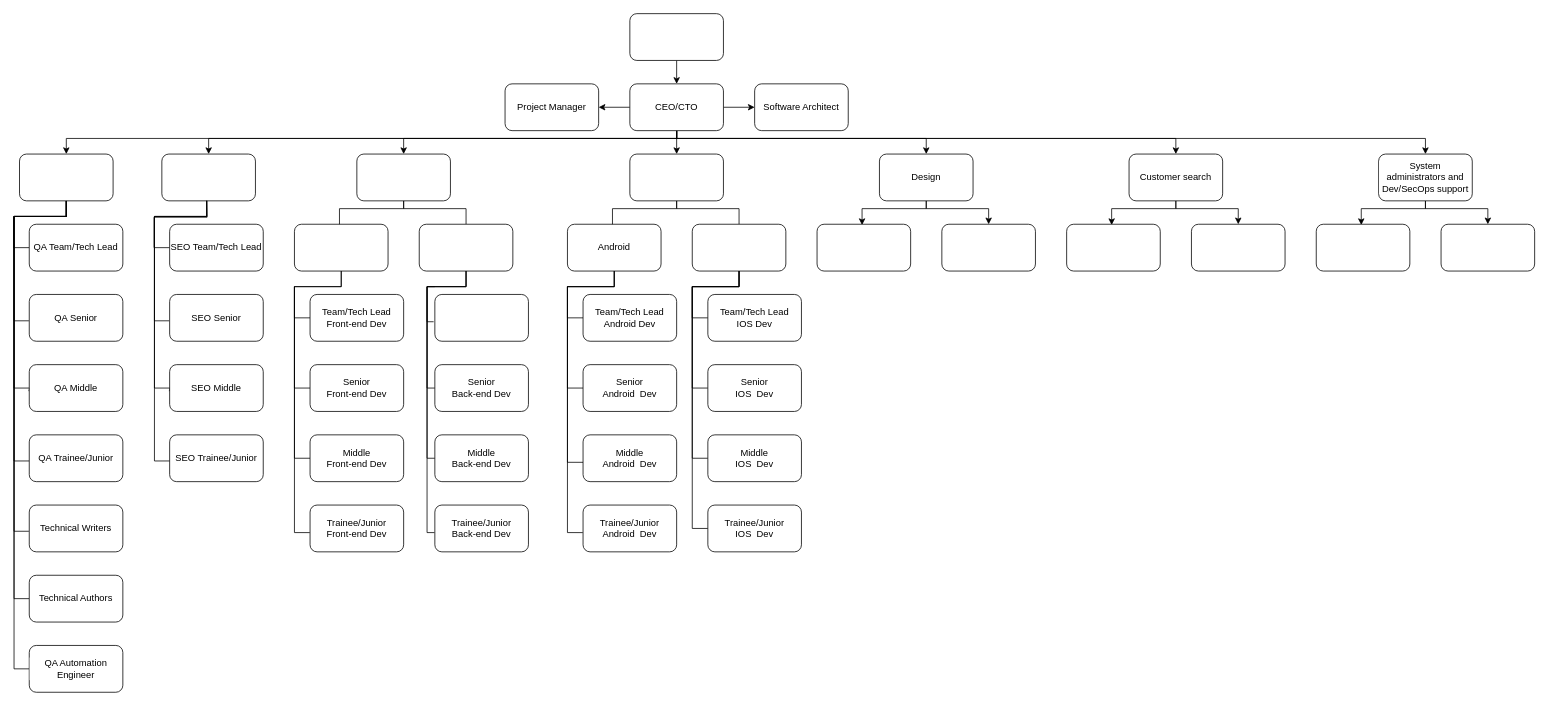
Some shapes in this 1548 by 706 pixel diagram are drawn without their labels. Each missing label, with the centre of its shape:
"Back-end" goes at [465,247].
"Front-end" goes at [341,247].
"IOS" goes at [738,247].
"Mobile applications" goes at [676,177].
"Owner" goes at [676,36].
"QA" goes at [66,177].
"SEO" goes at [208,177].
"Team/Tech Lead Back-end Dev" goes at [481,317].
"Web development" goes at [403,177].
